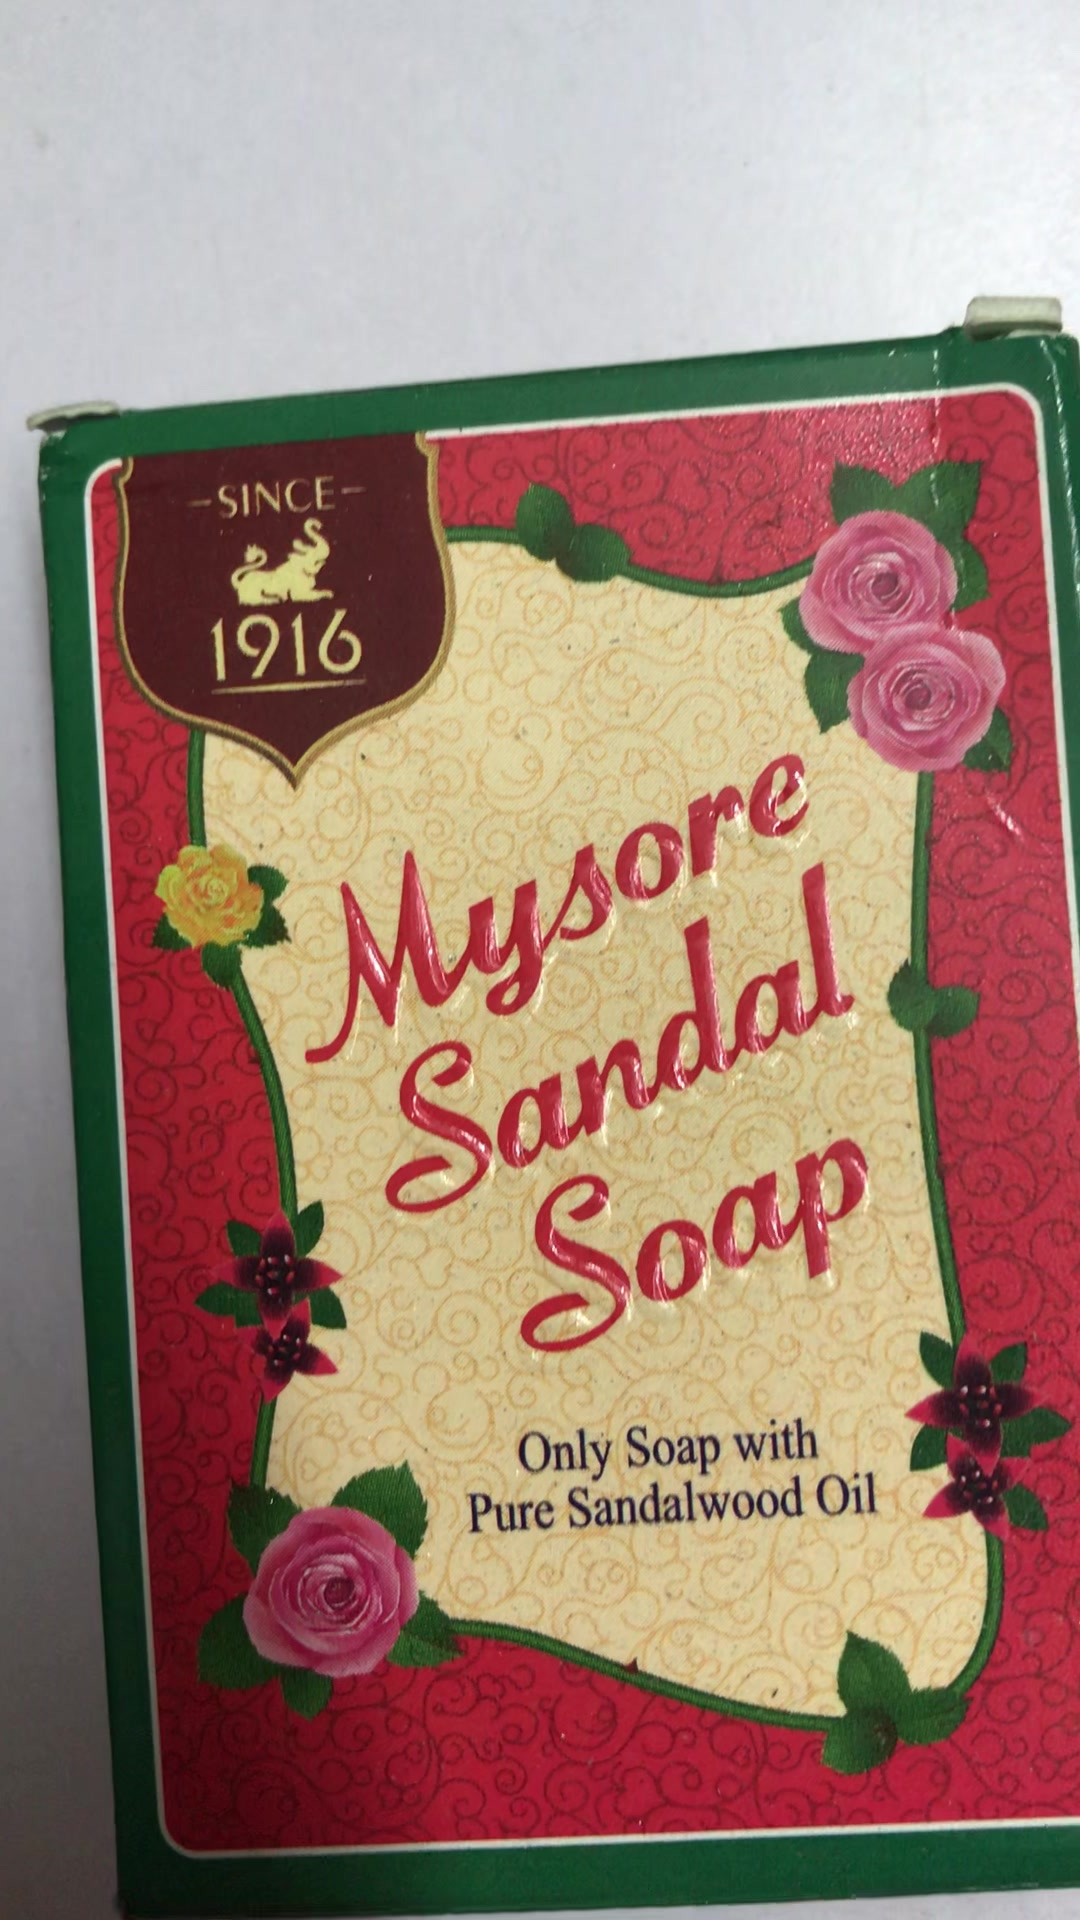mysore sandal soap: (49, 305, 1073, 1913)
